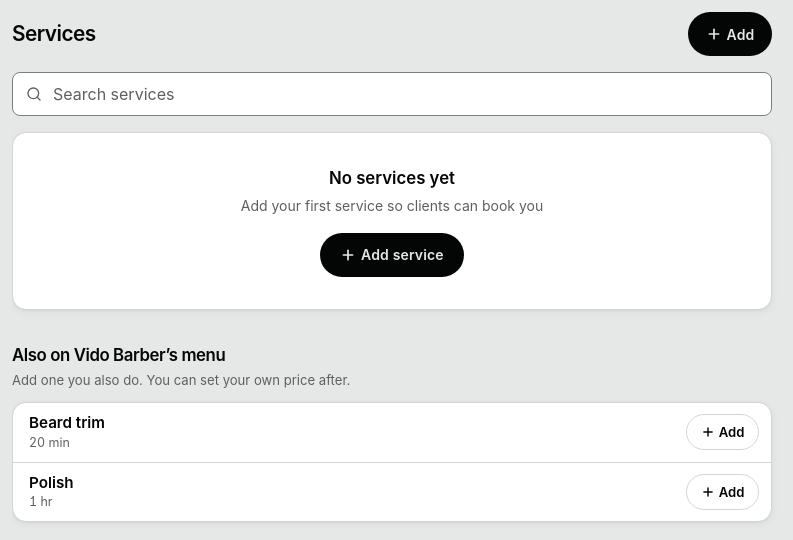
ServiceMenu — a team member › with no services of their own, a search that finds nothing says so and offers to clear it
Type "zzz" into the search field labelled "Search services" at (392, 94), box [12,72,772,116]
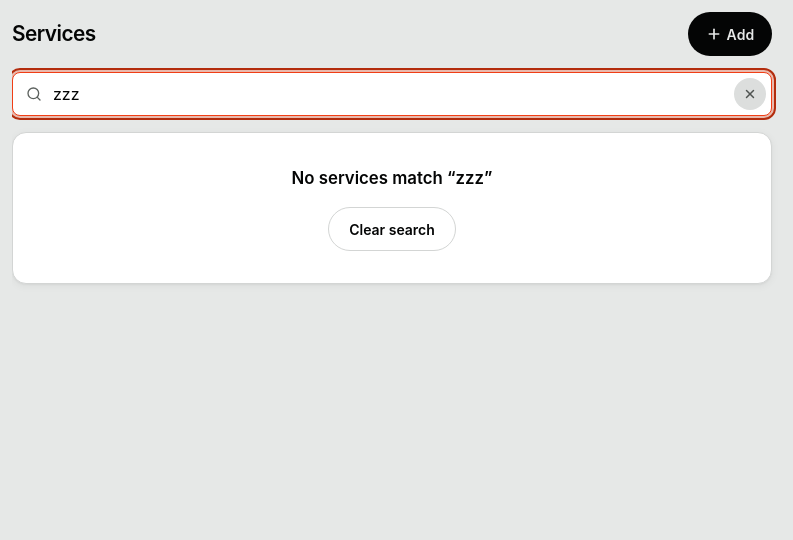
Expected: the text "No services yet" is gone
Expected: the text "No services match “zzz”" is shown, [292,168,492,188]
Expected: the element with test id "menu-services" is gone
Click the button "Clear search" at (392, 229), box [328,207,456,251]
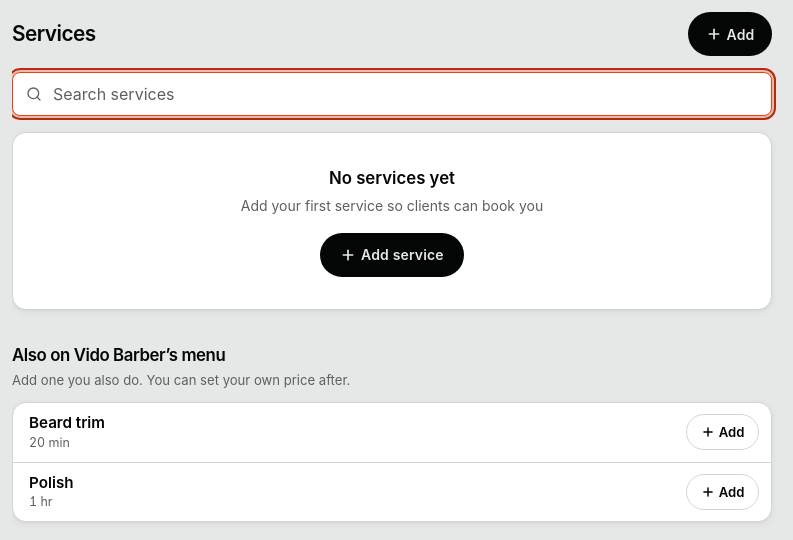
Expected: the search field labelled "Search services" is empty, [12,72,772,116]
Expected: the text "No services yet" is shown, [329,168,455,188]
